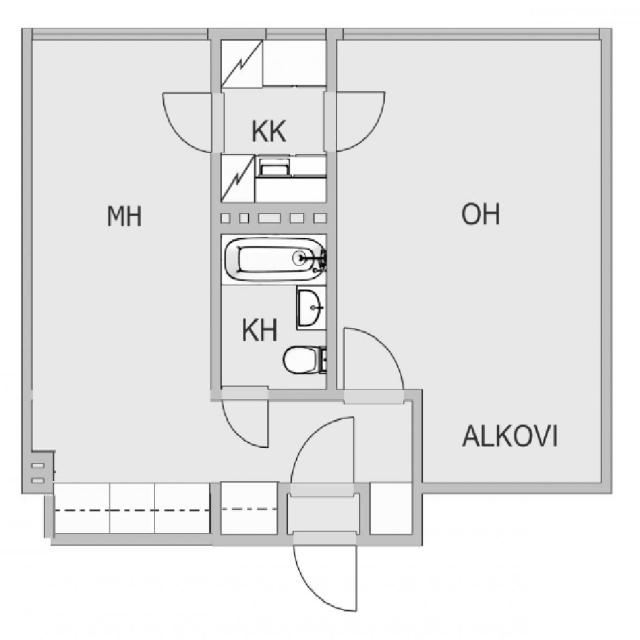door: (282, 534, 366, 620), (338, 319, 410, 402), (286, 420, 364, 496), (215, 382, 287, 455), (148, 90, 222, 152), (324, 88, 394, 147)
window: (336, 21, 608, 49), (24, 22, 212, 47), (270, 18, 329, 44)
zone: (329, 40, 612, 486), (22, 40, 218, 545), (213, 35, 330, 216), (224, 223, 330, 400)
